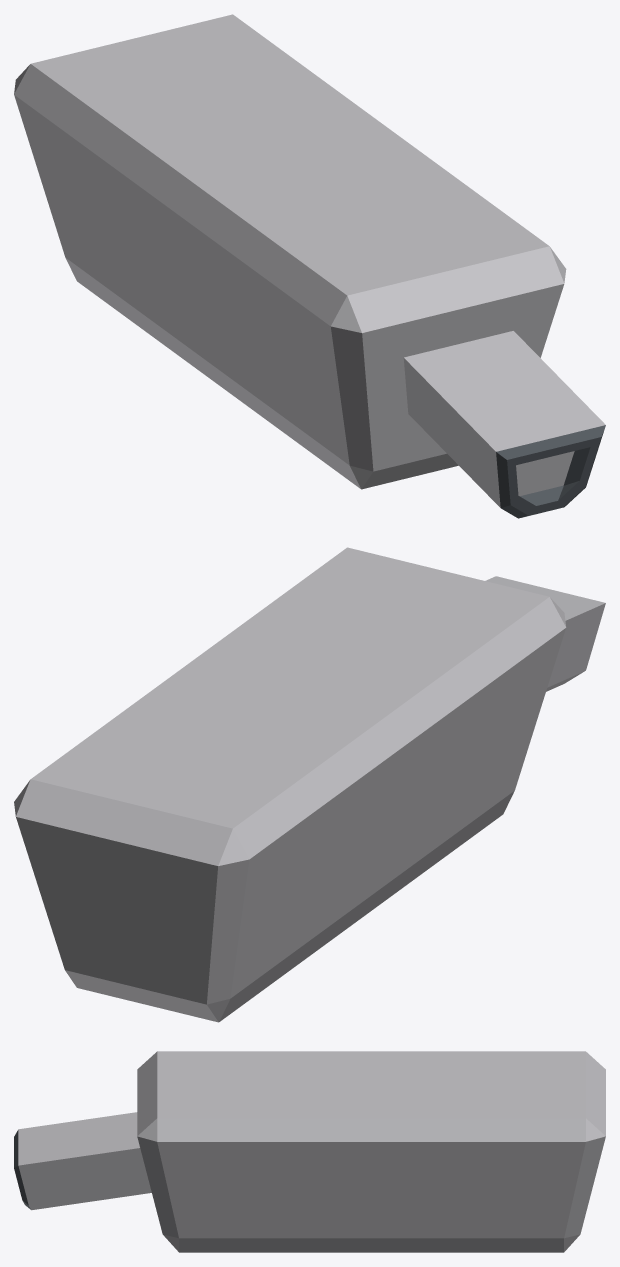
The model's file is Dropship_02_Periscope.fbx.
3 renders of one model, top to bottom at view 1: azimuth 30°, elevation 25°; view 2: azimuth 150°, elevation 25°; view 3: azimuth 270°, elevation 25°, orthographic. The views are drawn at different scales.
Visible parts, largest first — view 1: Dropship_02_Periscope; view 2: Dropship_02_Periscope; view 3: Dropship_02_Periscope.
Part boxes in pixels (x1,y1,x2,y2): Dropship_02_Periscope: (14,14,605,518); Dropship_02_Periscope: (14,547,605,1022); Dropship_02_Periscope: (14,1051,605,1252).
Bounding box in the file's own units: 130 × 112 × 417.
Materials: 1 (1 with a texture image).
